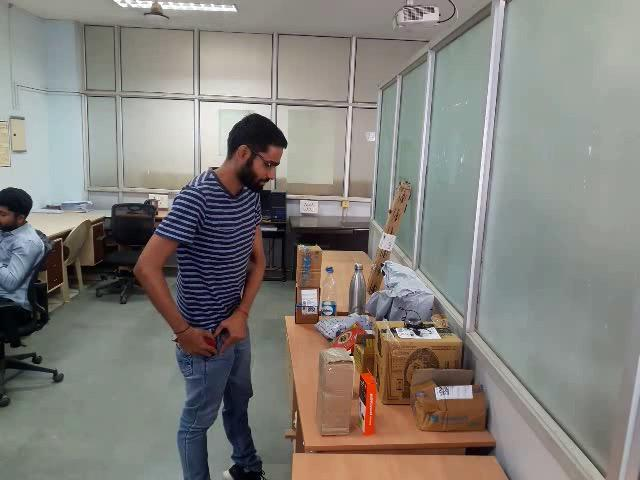Shoplifting: (112, 69, 320, 480)
